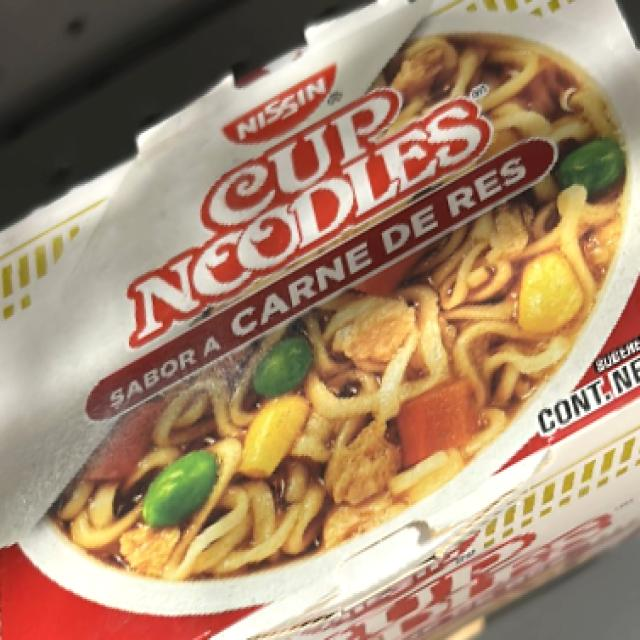nissinRes: (50, 62, 632, 555)
